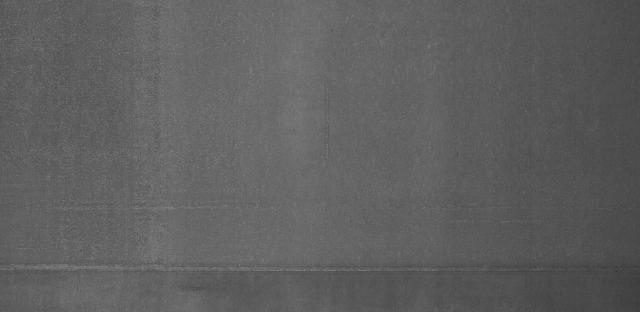welding_line: (4, 265, 640, 281)
